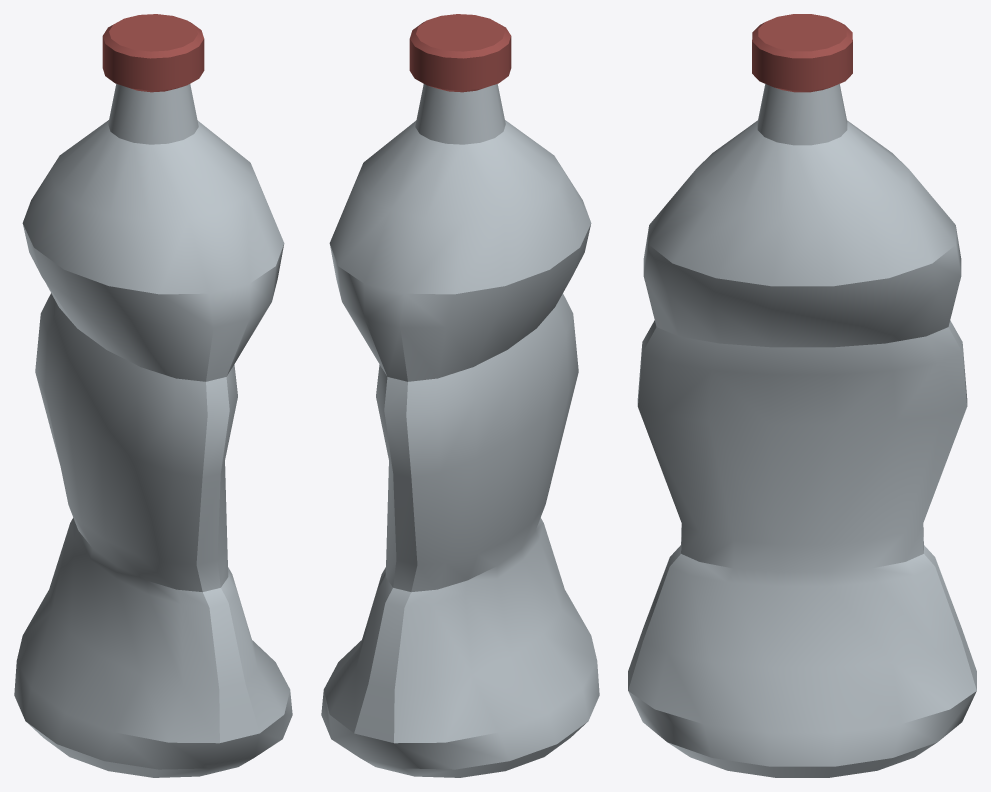
Rendered from Botella_12.fbx.
3 views of the same model, side by side, from view 1: azimuth 30°, elevation 25°; view 2: azimuth 150°, elevation 25°; view 3: azimuth 270°, elevation 25° (orthographic).
Parts seen in each view (by area): view 1: Botella_12; view 2: Botella_12; view 3: Botella_12.
Boxes of the visible parts, x1,y1,x2,y2 form: Botella_12: [14, 14, 292, 777]; Botella_12: [321, 14, 599, 777]; Botella_12: [628, 14, 976, 777].
Bounding box in the file's own units: 20.98 × 61.67 × 27.95.
